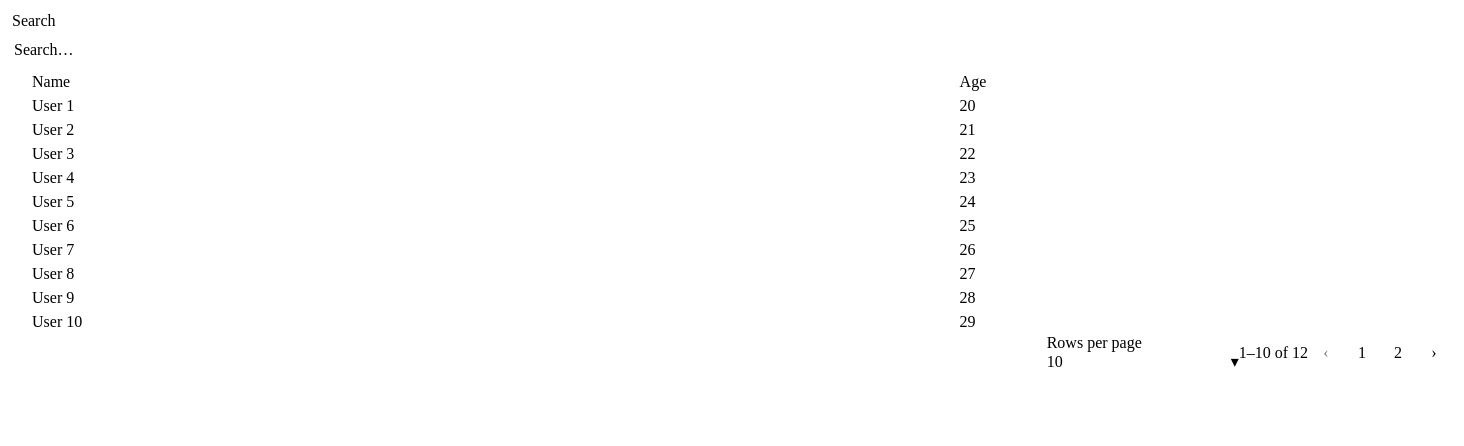
Test: changing page size re-pages and shows more rows
The width and height of the screenshot is (1464, 446).
Click the button named "rows per page": (1143, 362) 1047,352 -> 1239,371
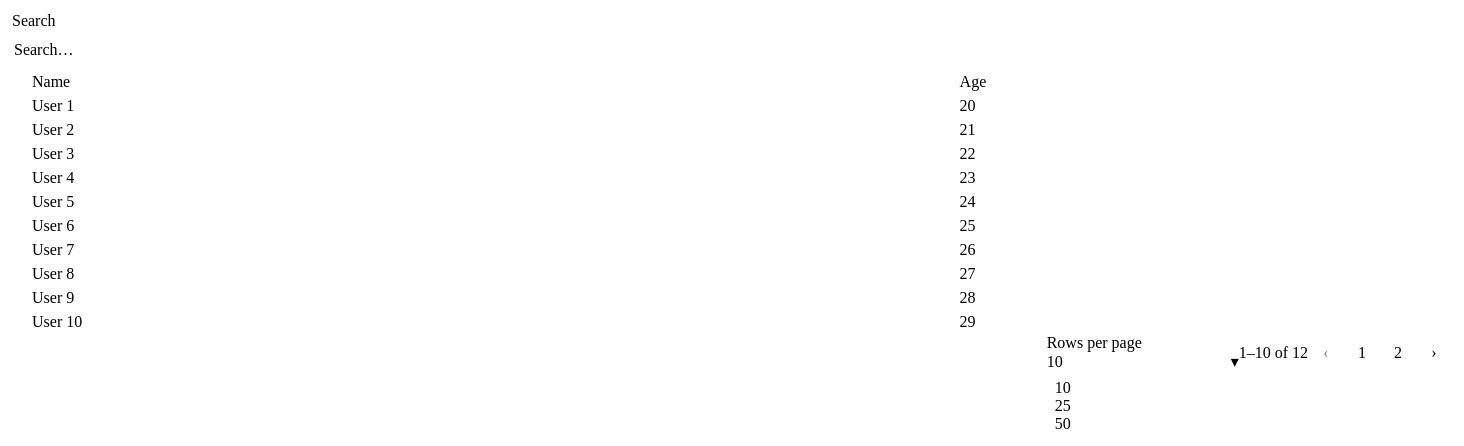
Click the option "25": (1063, 406) 1055,397 -> 1071,414
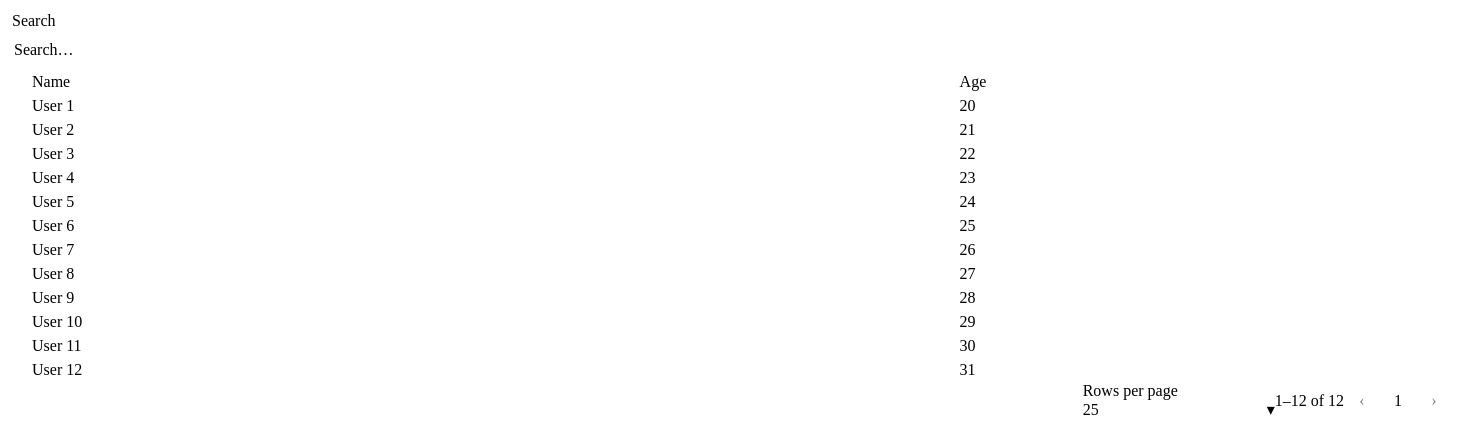
Check: the text "User 11" is shown, box 32,334 -> 960,358
